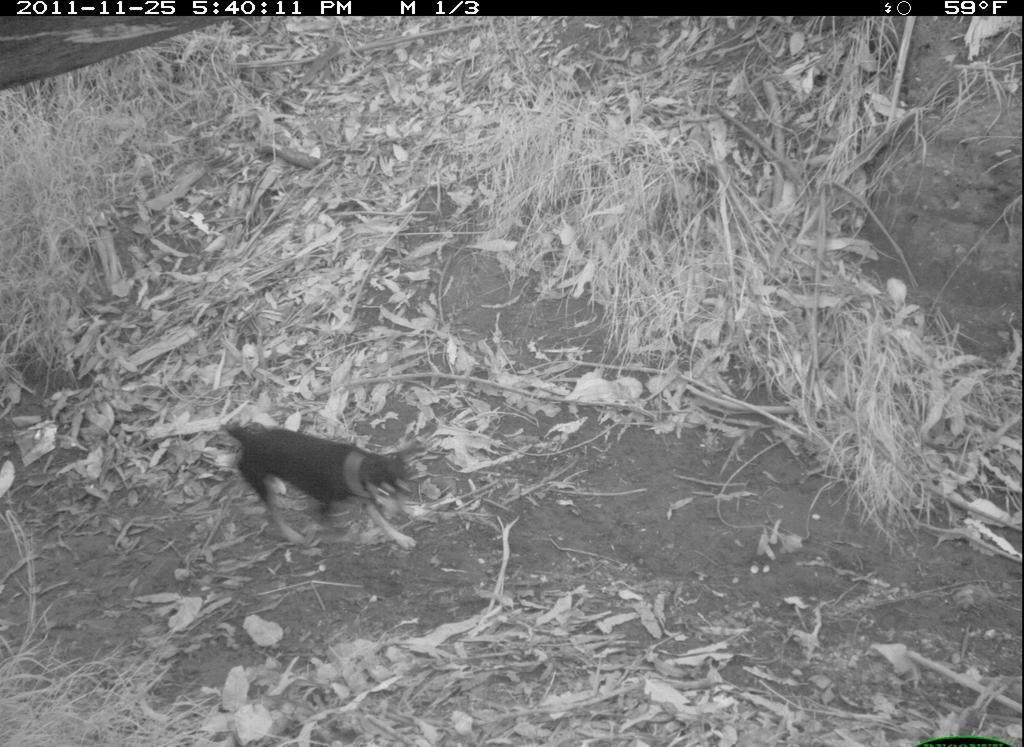dog: (192, 414, 439, 563)
